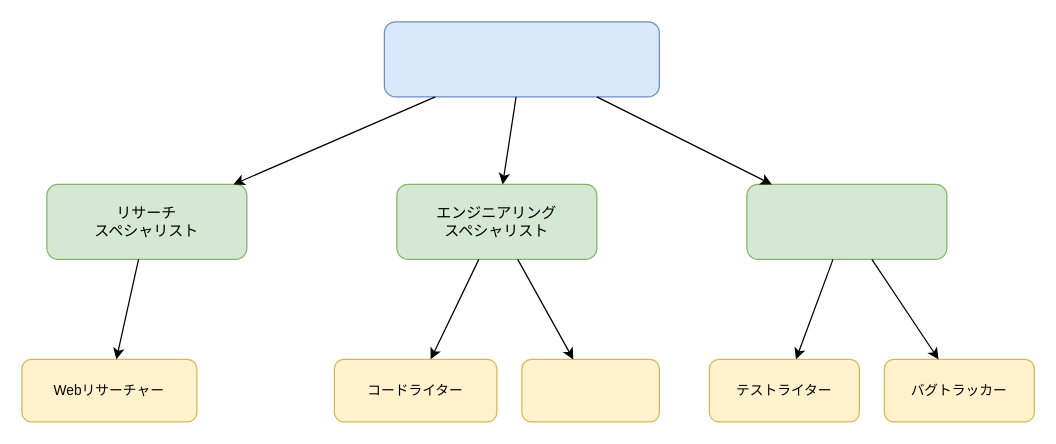
This 1056x444 diagram has some shape labels left out. Each missing label, with the centre of its shape:
QAスペシャリスト: the point at 846,221
オーケストレーター （ミッションを所有）: the point at 521,59
デバッガー: the point at 590,390
